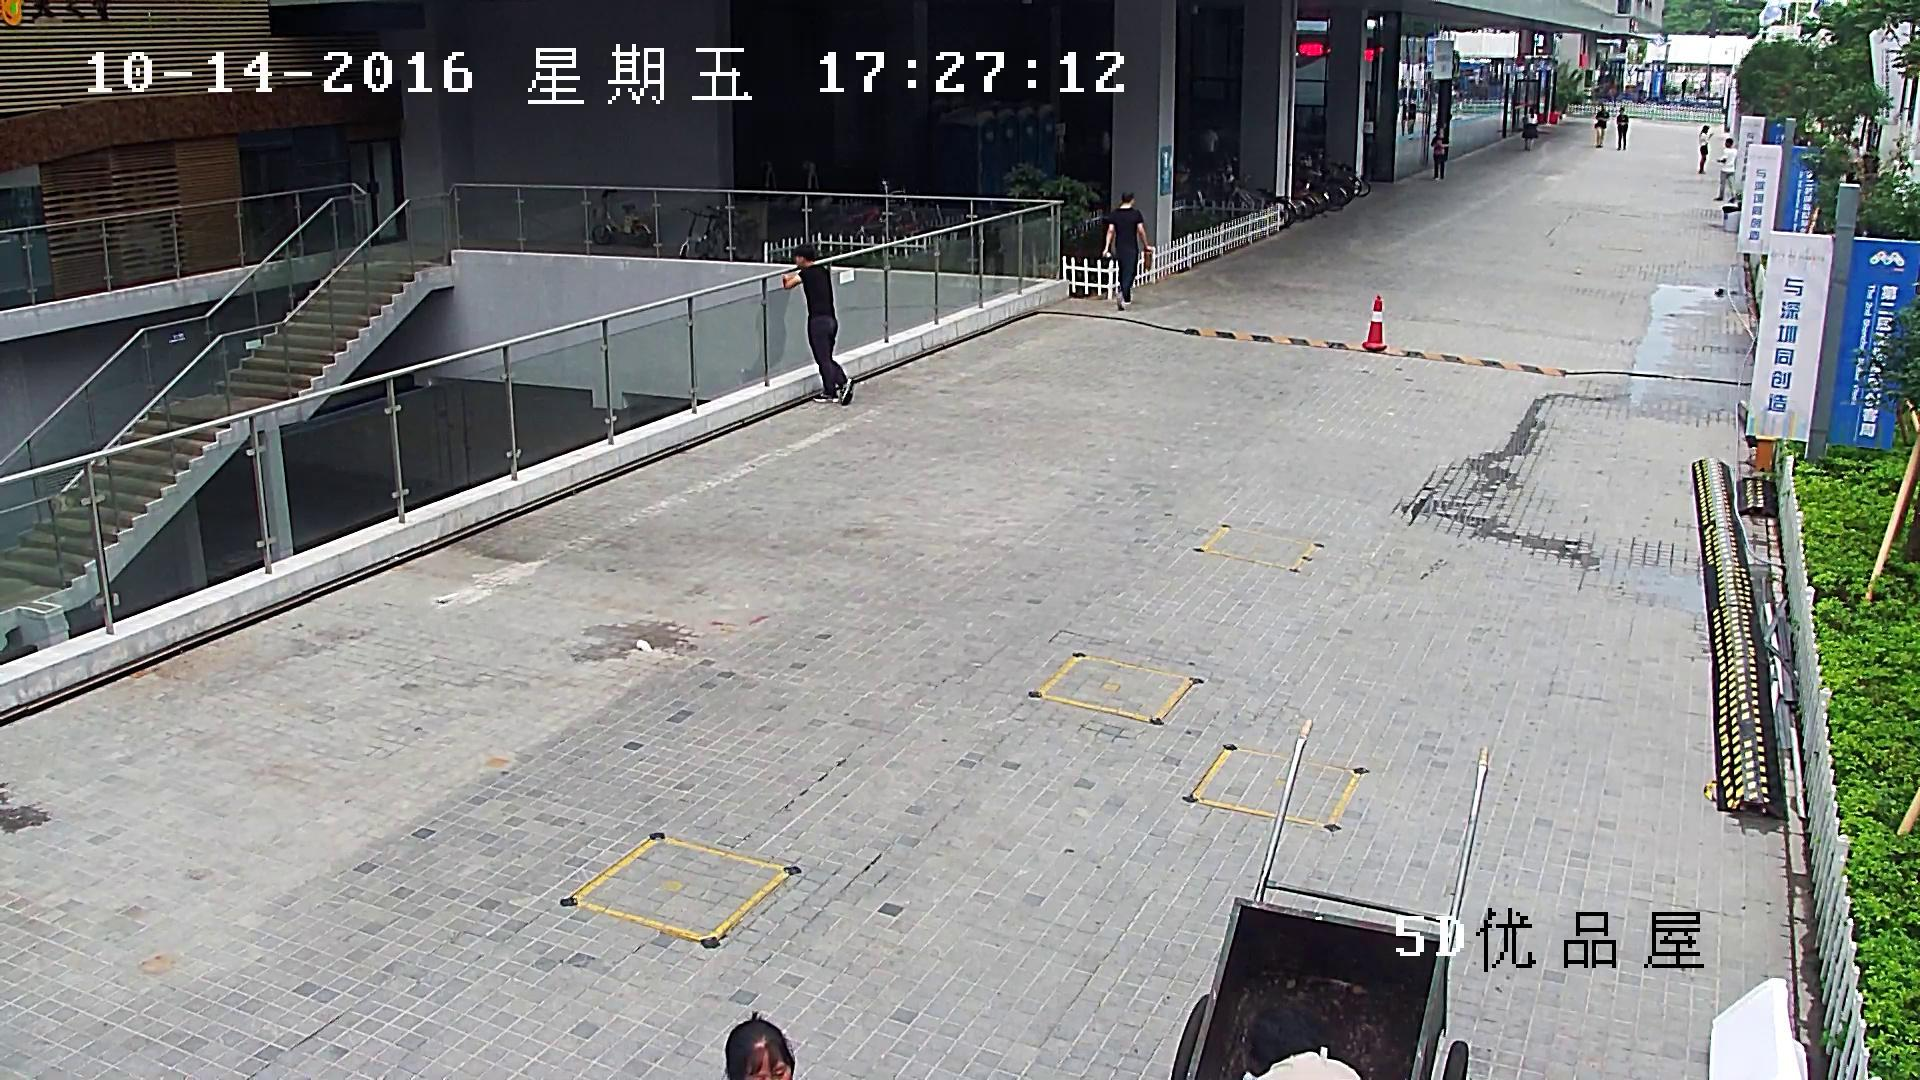person: (781, 245, 855, 406), (1239, 1004, 1362, 1080), (1101, 191, 1156, 311), (737, 287, 790, 384), (1712, 138, 1737, 203), (1430, 124, 1450, 182), (1521, 107, 1538, 153), (1698, 125, 1713, 173), (1593, 104, 1608, 148), (1616, 106, 1629, 150)
